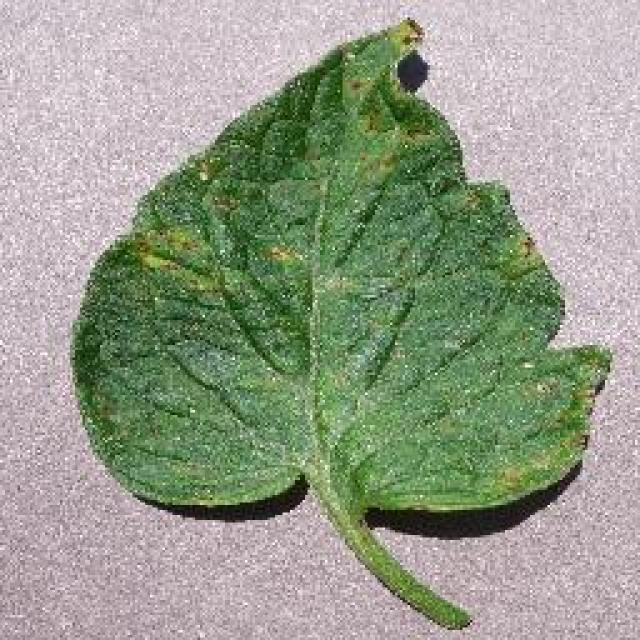Tom_Septoria_leaf_spot: (118, 176, 292, 309), (475, 331, 605, 491), (331, 17, 444, 182), (508, 226, 558, 279)
